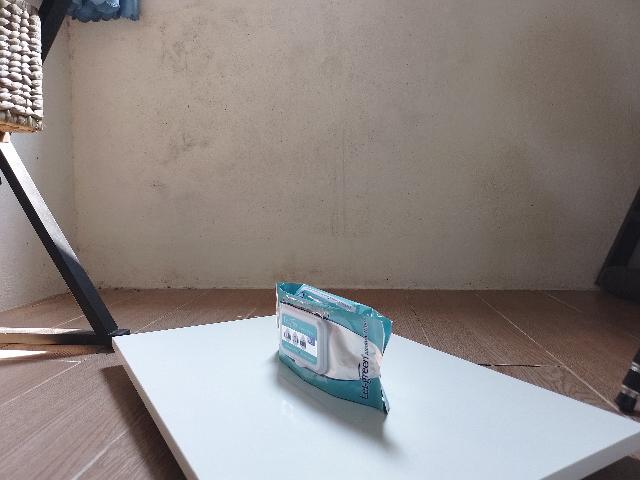Let-green_alcohol_wipes: (275, 283, 393, 415)
